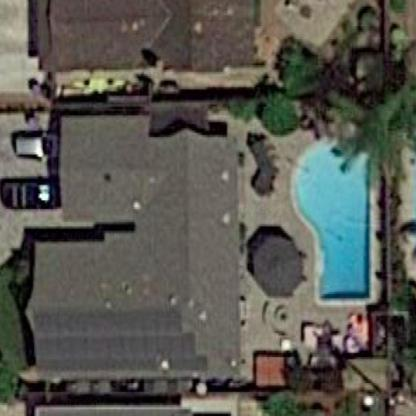car: (3, 172, 65, 218), (6, 124, 66, 162)
solar_panel: (28, 297, 217, 387)
swimming_pool: (291, 117, 386, 320)
